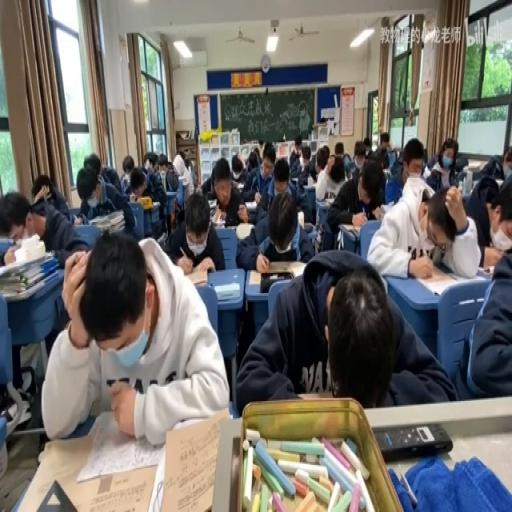calculator: (154, 407, 230, 509), (76, 408, 165, 481), (413, 260, 464, 294), (248, 263, 306, 285), (179, 263, 210, 285), (354, 209, 382, 229), (214, 282, 240, 300), (236, 222, 254, 240), (338, 222, 359, 235), (458, 165, 474, 181), (211, 205, 224, 222), (0, 233, 18, 245), (158, 171, 168, 192), (466, 158, 486, 168), (380, 200, 394, 214), (475, 266, 491, 277), (120, 172, 130, 189), (154, 230, 166, 244), (302, 220, 314, 232), (297, 210, 304, 229), (320, 196, 333, 206), (243, 201, 257, 209), (233, 179, 245, 188), (149, 199, 159, 209), (206, 199, 216, 208), (382, 168, 390, 179), (177, 174, 187, 182), (308, 176, 314, 188), (290, 174, 299, 180)
paper: (44, 230, 230, 444), (234, 250, 450, 414), (367, 142, 476, 279), (453, 184, 512, 398), (2, 180, 86, 268), (236, 179, 314, 266), (326, 155, 386, 246), (78, 160, 138, 238), (194, 156, 248, 232), (130, 158, 168, 230), (168, 154, 189, 223), (384, 149, 410, 202), (477, 145, 512, 183), (438, 136, 458, 176), (30, 172, 53, 203), (294, 144, 313, 180), (353, 142, 368, 168), (83, 154, 101, 175), (142, 152, 158, 174), (328, 158, 344, 180), (230, 154, 244, 179), (261, 140, 274, 164), (246, 149, 260, 171), (316, 148, 329, 171), (378, 145, 390, 168), (122, 154, 134, 176), (342, 150, 351, 174), (262, 160, 274, 178), (379, 132, 389, 150), (157, 154, 168, 169), (334, 142, 344, 156), (184, 156, 193, 170), (290, 148, 299, 162), (363, 136, 371, 148), (294, 136, 300, 150)
person: (373, 422, 451, 461)
